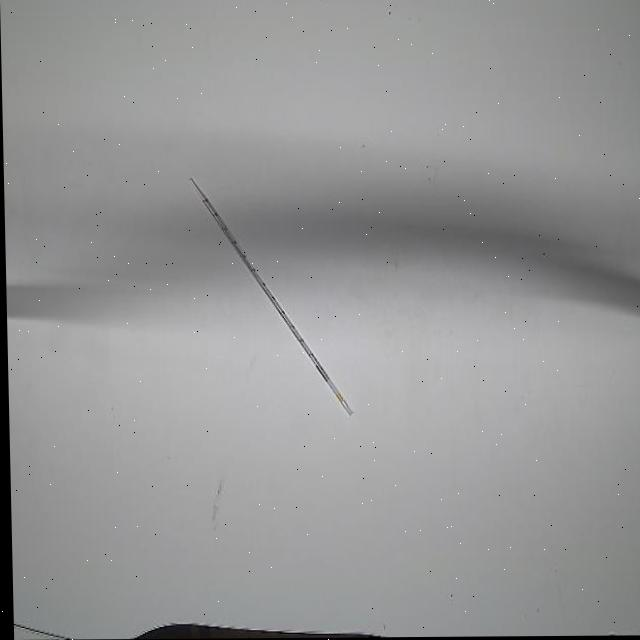Serelogical Pipet 1 mL: (188, 173, 357, 425)
